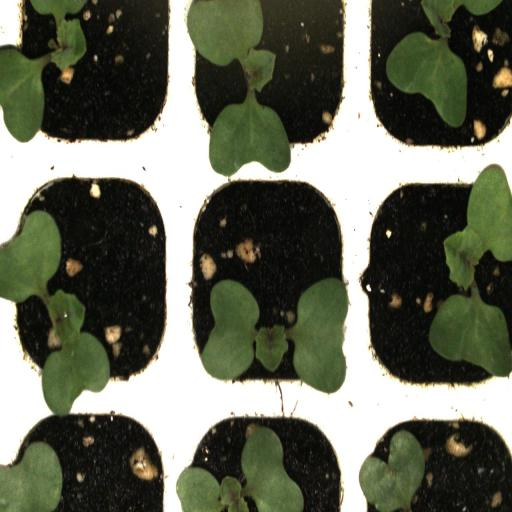Folha: (360, 429, 425, 512)
Germinacao: (178, 160, 358, 405), (4, 159, 177, 399), (360, 158, 512, 409), (178, 0, 358, 156), (7, 0, 178, 155), (360, 0, 512, 153)
